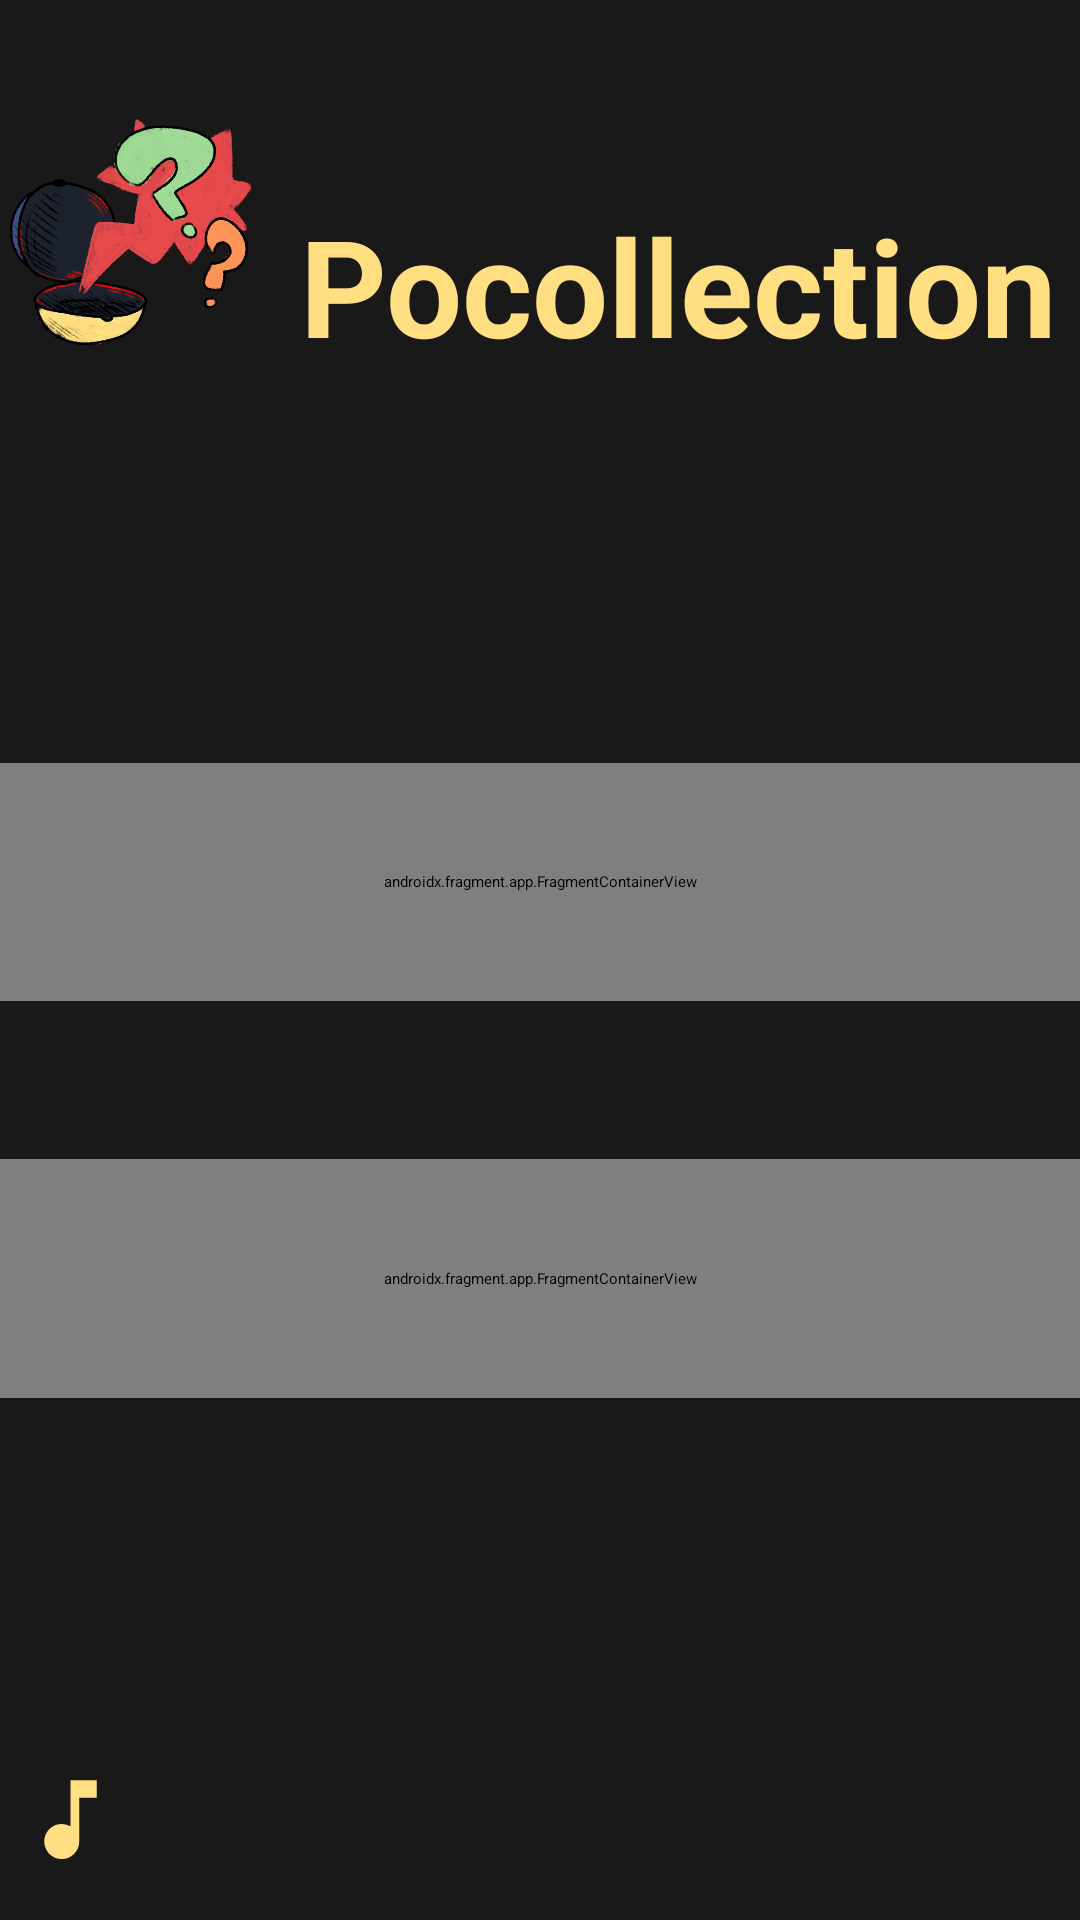

Icon bounding boxes for this 1080*1920 phone screenshot, format (x1, y1, x2, y2):
Toggle Music: (44, 1780, 97, 1859)
